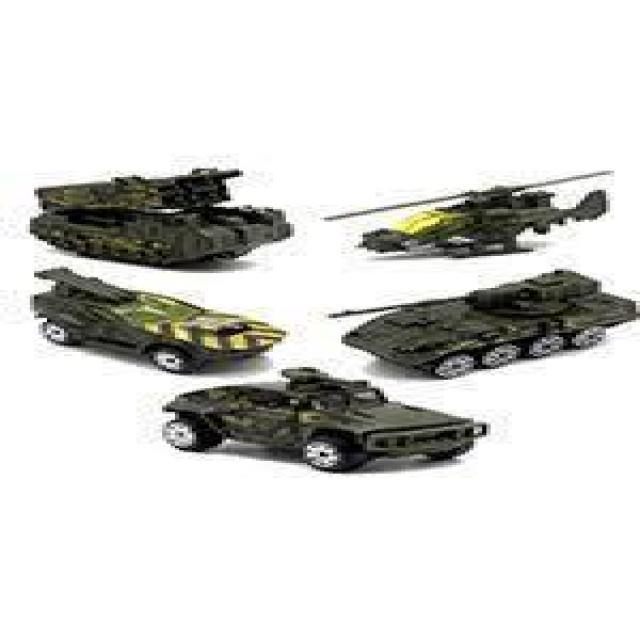MIL_MBT: (354, 262, 636, 369), (23, 153, 297, 261)
